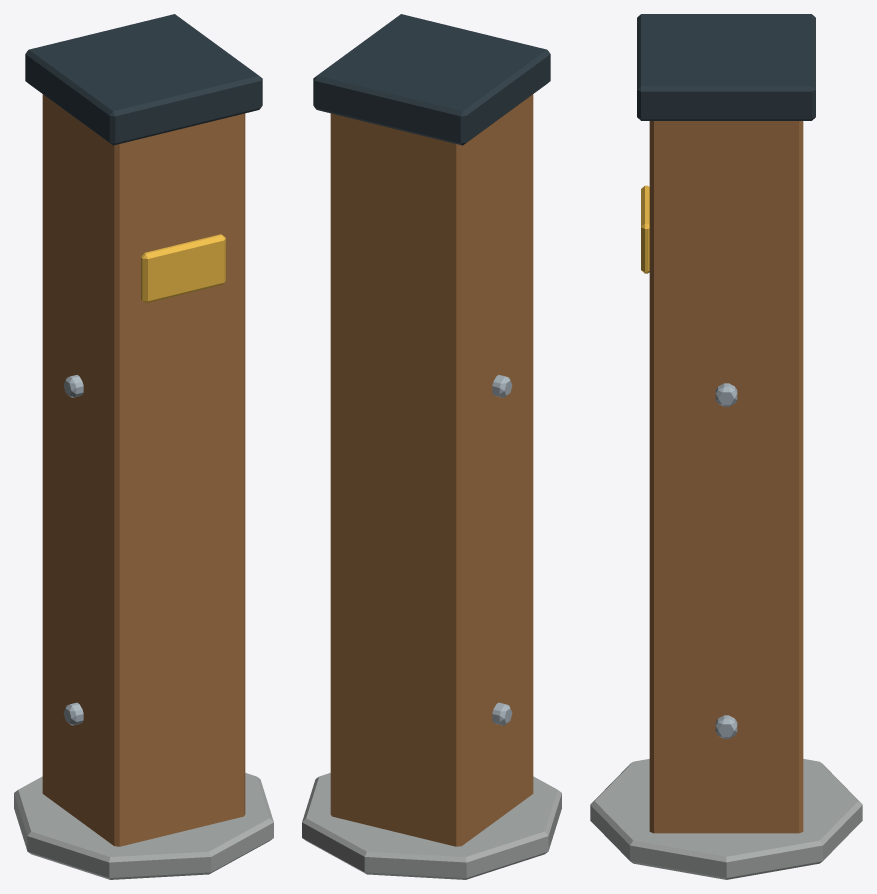
The model's file is b01_timber_trail_bollard.glb.
3 renders of one model, left to right at view 1: azimuth 30°, elevation 25°; view 2: azimuth 150°, elevation 25°; view 3: azimuth 270°, elevation 25°, orthographic.
Visible parts, largest first — view 1: b01_timber_trail_bollard; view 2: b01_timber_trail_bollard; view 3: b01_timber_trail_bollard.
Boxes of the visible parts, <box> form: b01_timber_trail_bollard: <box>14,14,273,879</box>; b01_timber_trail_bollard: <box>302,14,561,879</box>; b01_timber_trail_bollard: <box>590,14,862,879</box>.
Bounding box in the file's own units: 0.32 × 1 × 0.32.
